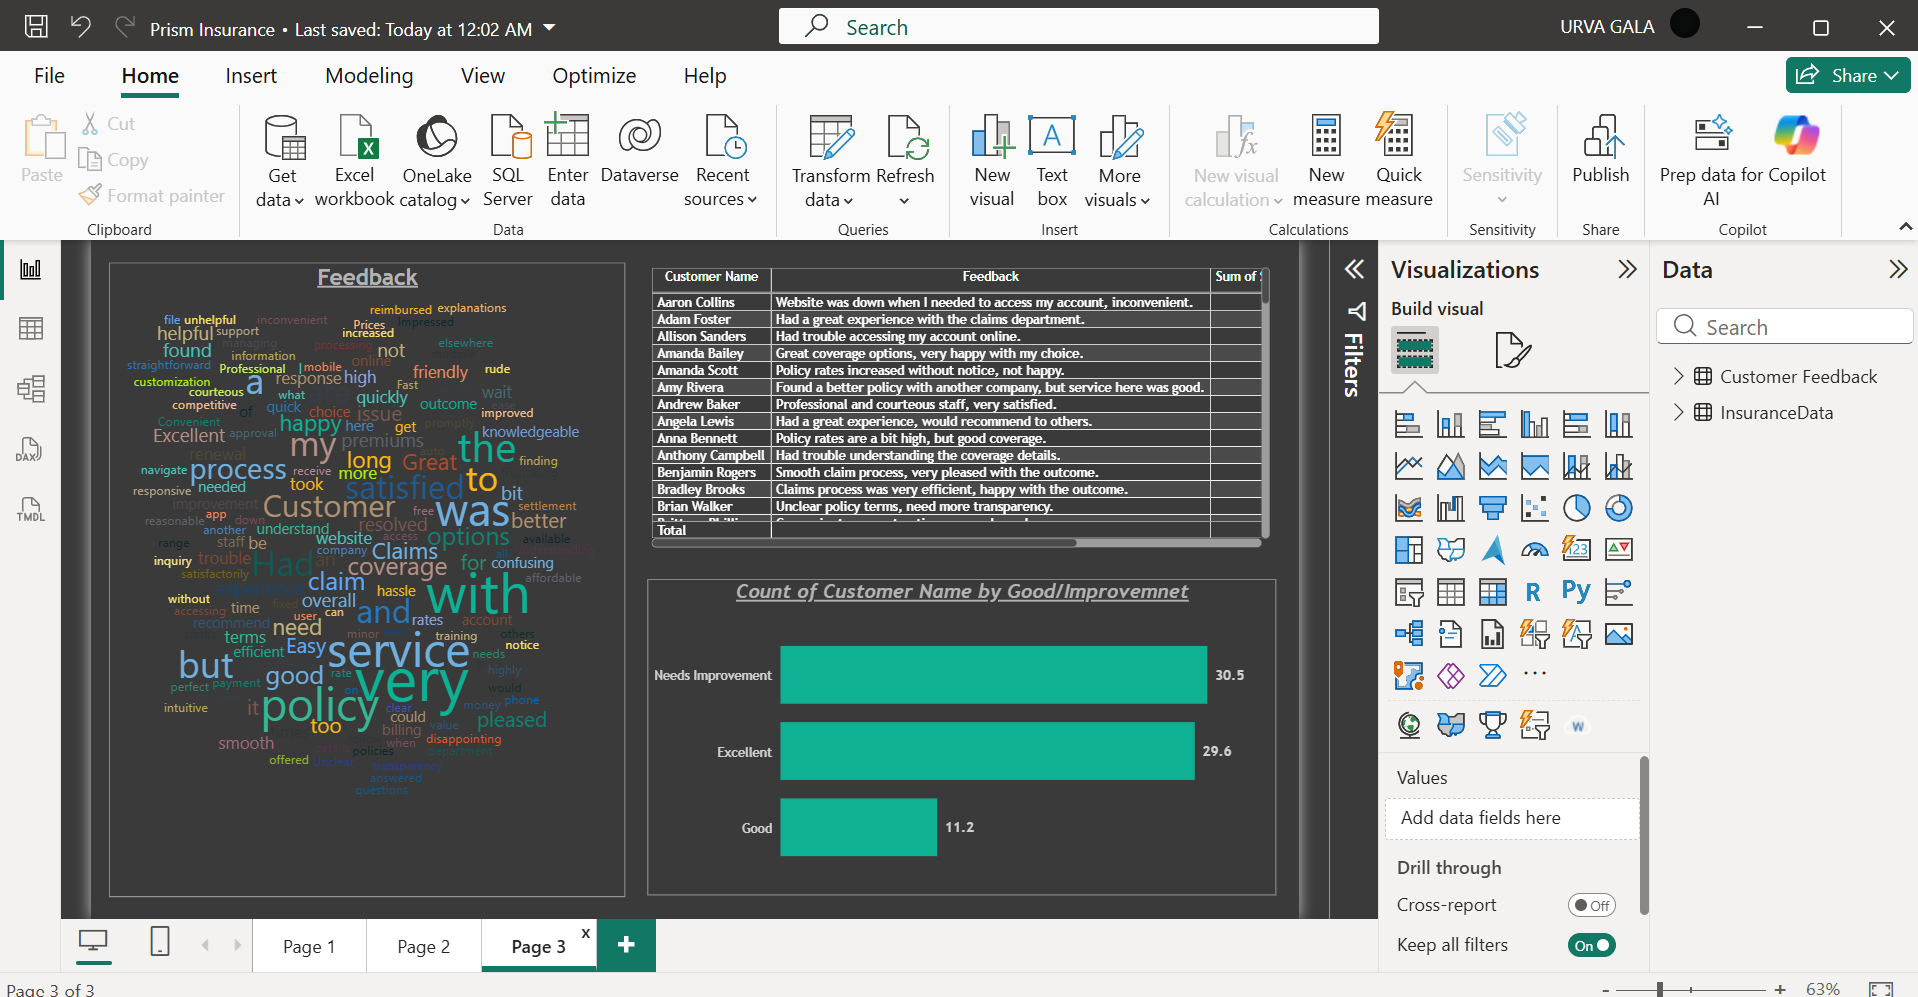

This screenshot's page, from the dashboard's own definition file:
{"tool":"powerbi","page":{"name":"Page 3","canvas":[1280,720],"ordinal":2},"visuals":[{"type":"WordCloud1447959067750","fields":{"Category":["Customer Feedback.Feedback"]},"box":[19.1,23.9,547.2,672.8],"z":0},{"type":"tableEx","fields":{"Values":["Customer Feedback.Customer Name","Customer Feedback.Feedback","Sum(Customer Feedback.Sentiment Score (0-1))","Customer Feedback.Good/Improvement"]},"box":[588.5,23.9,666.5,307],"z":1},{"type":"barChart","title":"Count of Customer Name by Good/Improvemnet","fields":{"Category":["Customer Feedback.Good/Improvement"],"Y":["Sum(Customer Feedback.Sentiment Score (0-1))"]},"box":[590.1,359.5,666.5,335.6],"z":2}]}

Visuals, with their boxes on the page's 1280x720 design canvas (x1, y1, x2, y2). These are canvas units, not pixel positions in the 1918x997 screenshot, which may show the page scaled, cropped or inside an application window:
WordCloud1447959067750 - Customer Feedback.Feedback: 19,24,566,697
tableEx - Customer Feedback.Customer Name x Customer Feedback.Feedback: 588,24,1255,331
"Count of Customer Name by Good/Improvemnet" barChart: 590,360,1257,695
